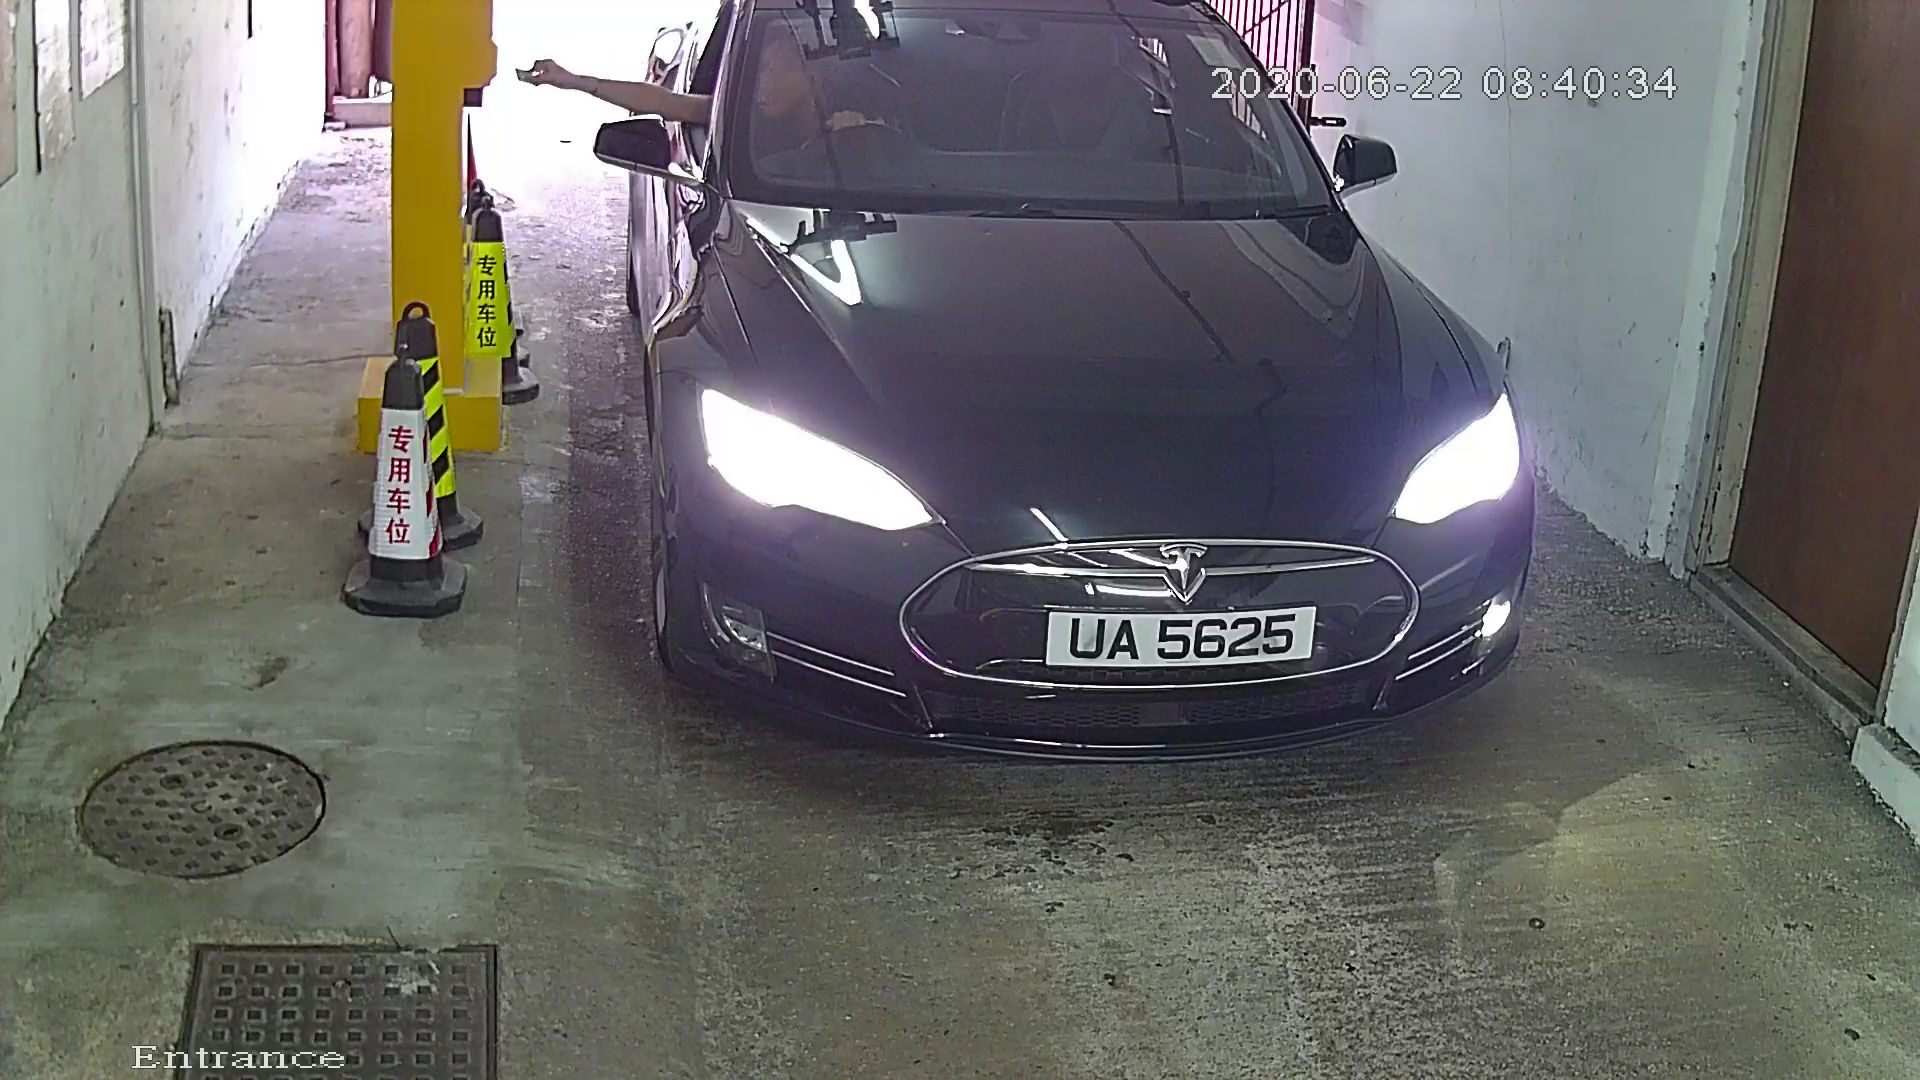privatecar: (542, 3, 1590, 808)
